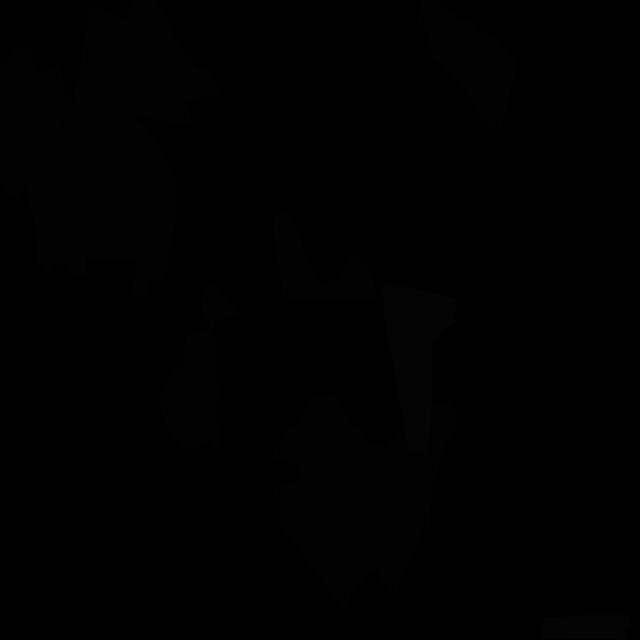cardboard: (274, 392, 458, 611), (15, 91, 178, 298), (64, 0, 220, 157), (159, 284, 241, 451), (417, 0, 517, 129), (0, 45, 74, 201), (272, 209, 376, 302)
soft_plastic: (383, 283, 456, 457), (541, 613, 632, 640)
